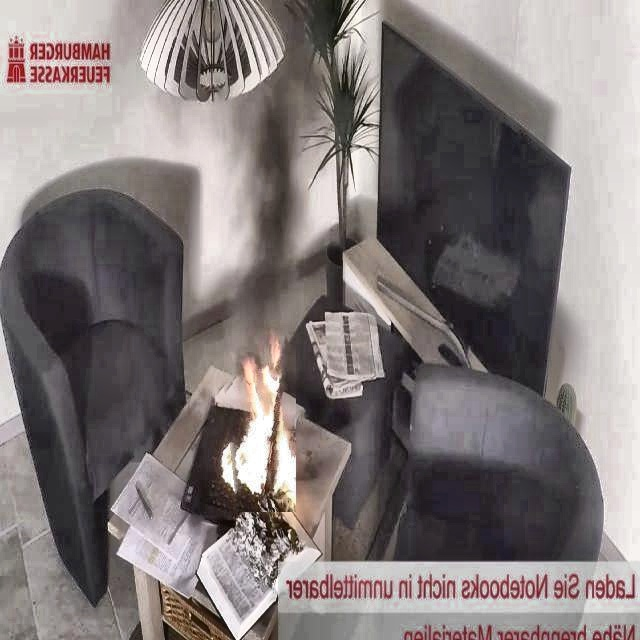fire: (214, 332, 293, 493)
